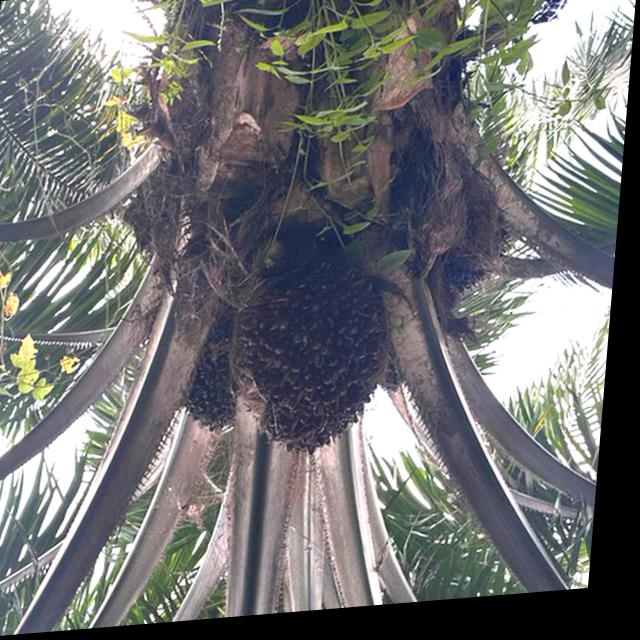unripe: (219, 222, 413, 479), (408, 176, 543, 314), (165, 300, 266, 450)
